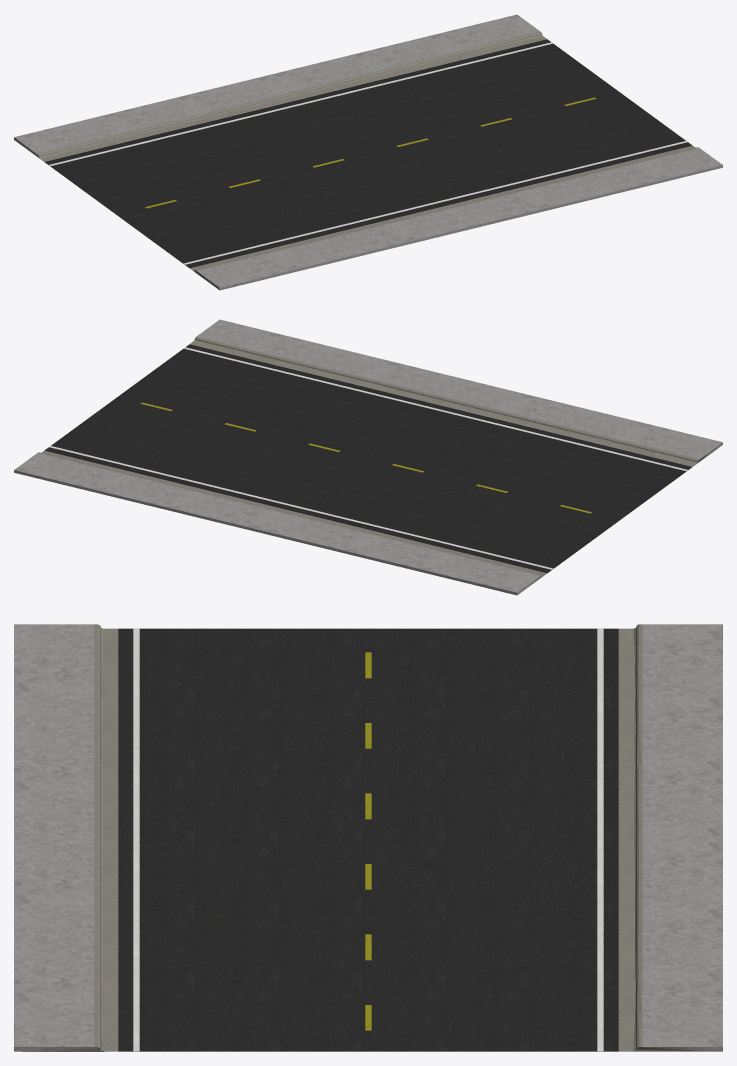
The model's file is streetStraight_wSidewalk_long.fbx.
3 renders of one model, top to bottom at view 1: azimuth 30°, elevation 25°; view 2: azimuth 150°, elevation 25°; view 3: azimuth 270°, elevation 25°, orthographic. The views are drawn at different scales.
Visible parts, largest first — view 1: general_street_straight_w_sidewalk_long; view 2: general_street_straight_w_sidewalk_long; view 3: general_street_straight_w_sidewalk_long.
Part boxes in pixels (x1,y1,x2,y2): general_street_straight_w_sidewalk_long: (14, 14, 722, 290); general_street_straight_w_sidewalk_long: (14, 319, 722, 595); general_street_straight_w_sidewalk_long: (14, 624, 722, 1051).
Size of the model in its own units: 2880 by 15.87 by 2040.
Materials: 2 (2 with a texture image).
